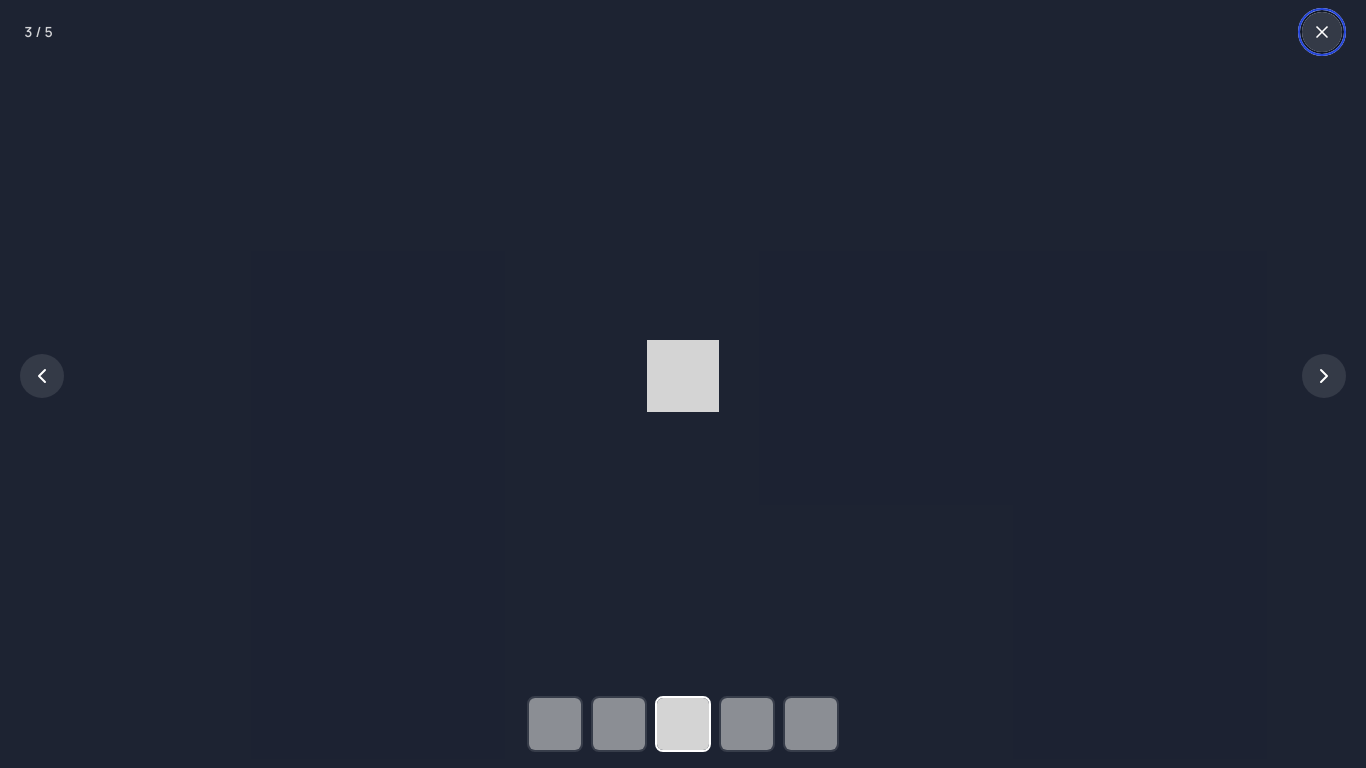
Test: Lightbox › opens at the requested photo, moves with the arrows and wraps at both ends
Expected: the text "3 / 5" is shown, x1=24 y1=22 x2=53 y2=42
Click the button named "Next photo". click: (1324, 376)
box: x1=1302 y1=354 x2=1346 y2=398
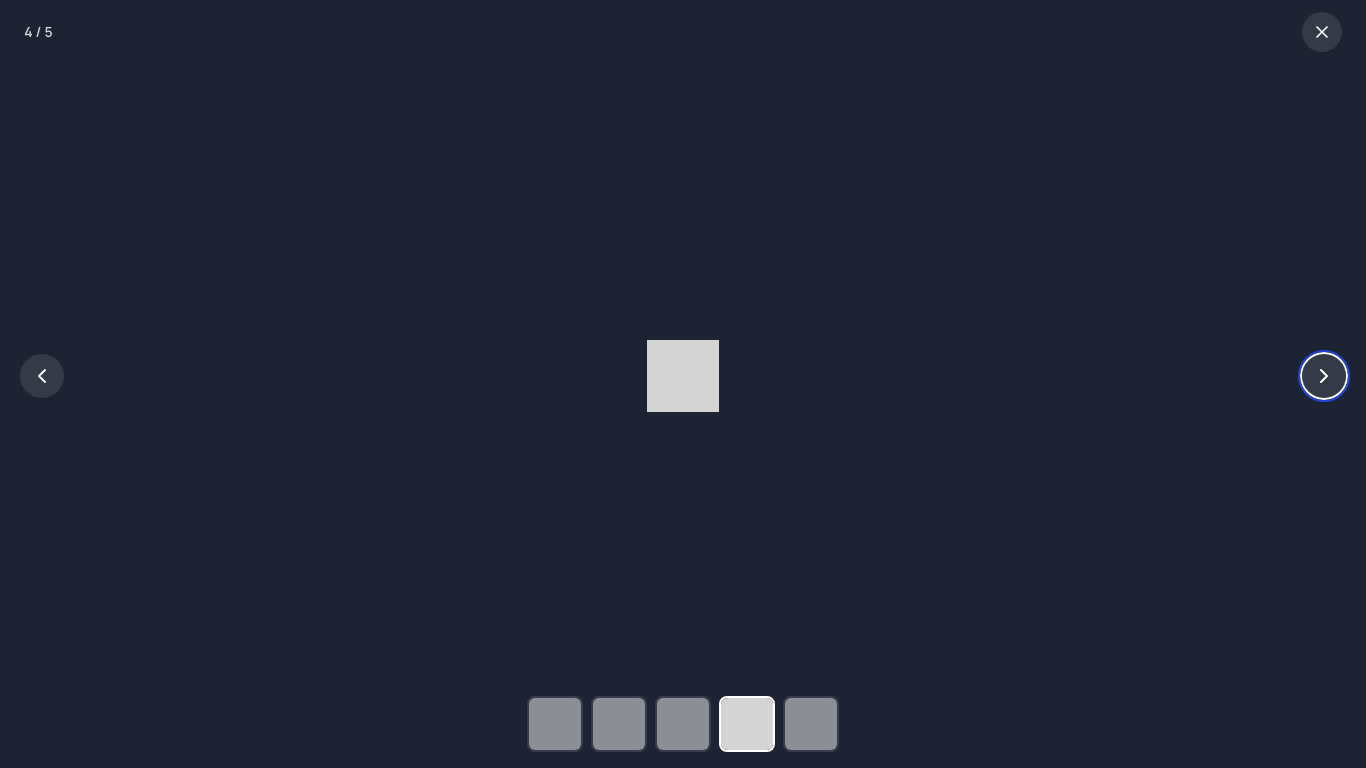
Now the text "4 / 5" is shown, box x1=24 y1=22 x2=53 y2=42
Click the button named "Next photo". click: (1324, 376)
box: x1=1302 y1=354 x2=1346 y2=398
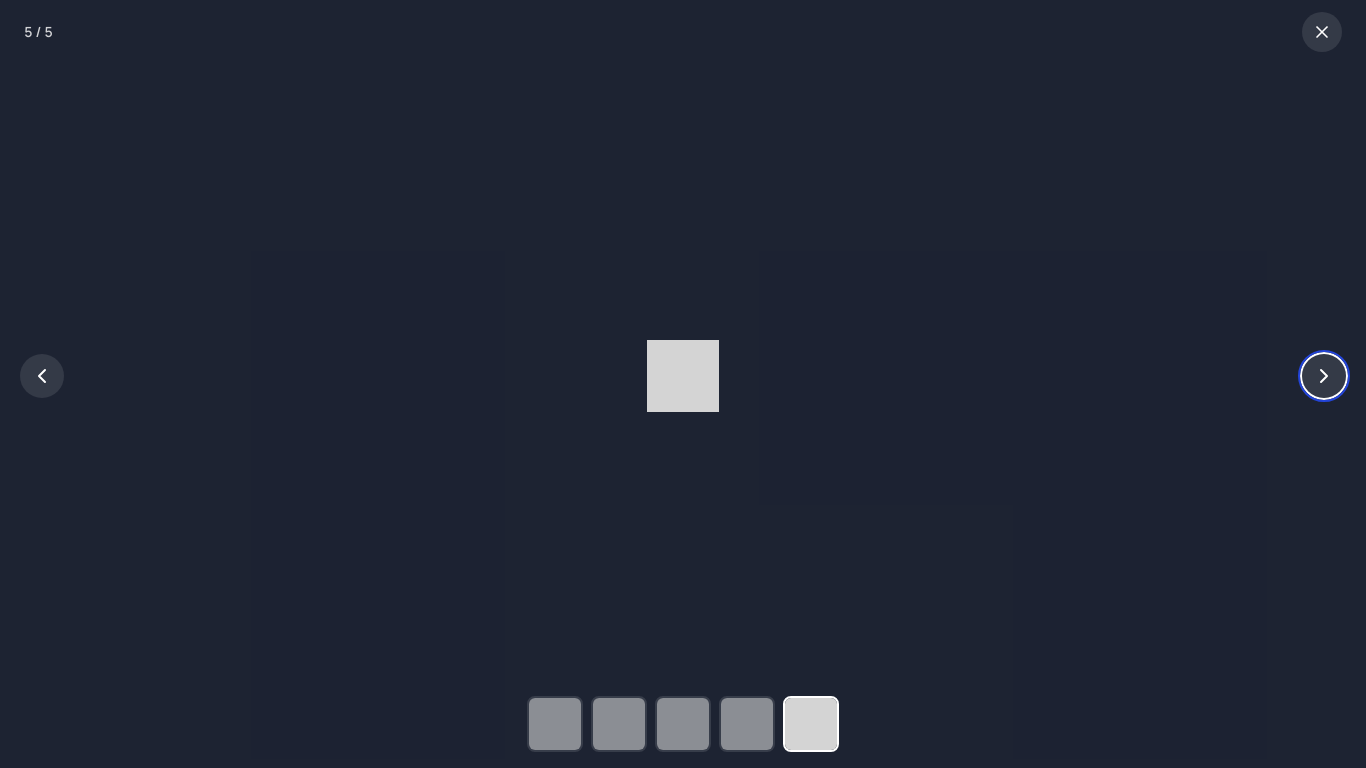
Now the text "5 / 5" is shown, box x1=24 y1=22 x2=53 y2=42
Click the button named "Next photo". click: (1324, 376)
box: x1=1302 y1=354 x2=1346 y2=398
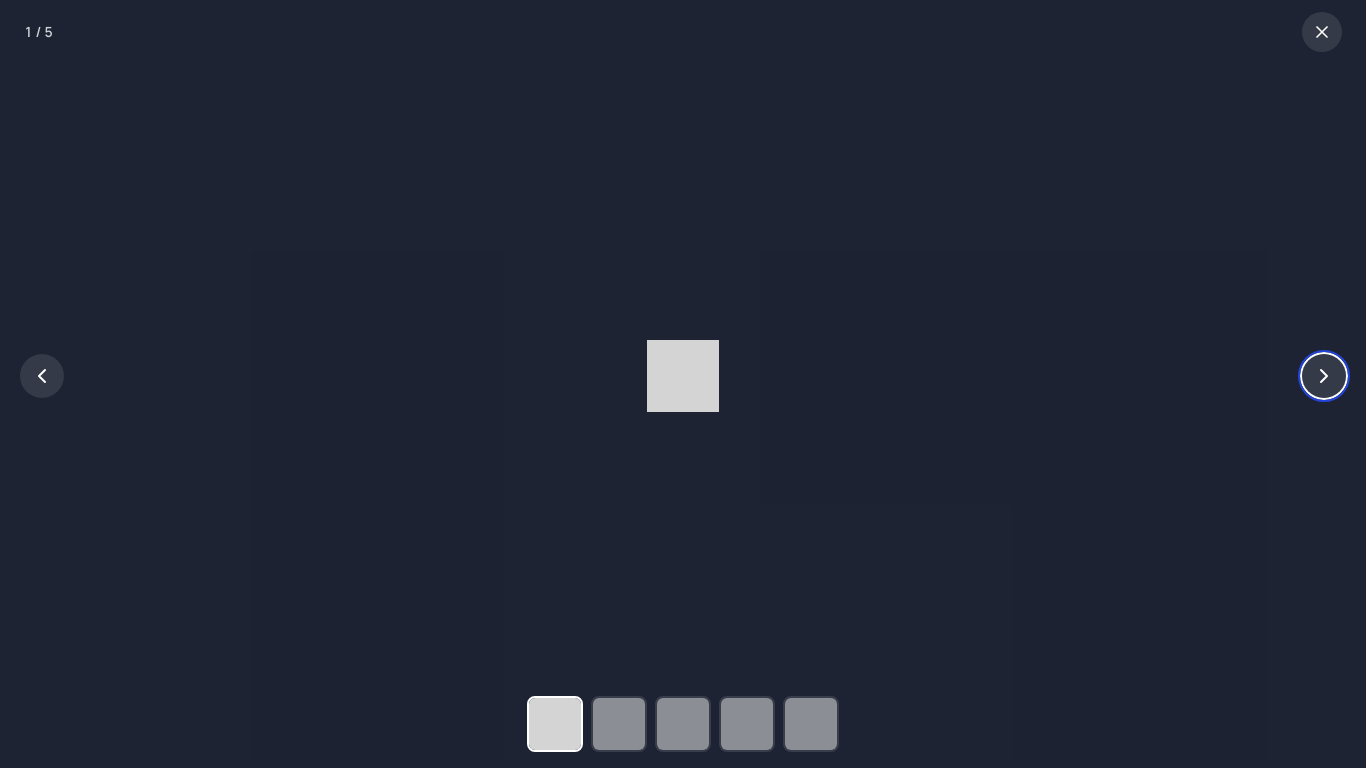
Now the text "1 / 5" is shown, box x1=24 y1=22 x2=53 y2=42
Click the button named "Previous photo". click: (42, 376)
box: x1=20 y1=354 x2=64 y2=398
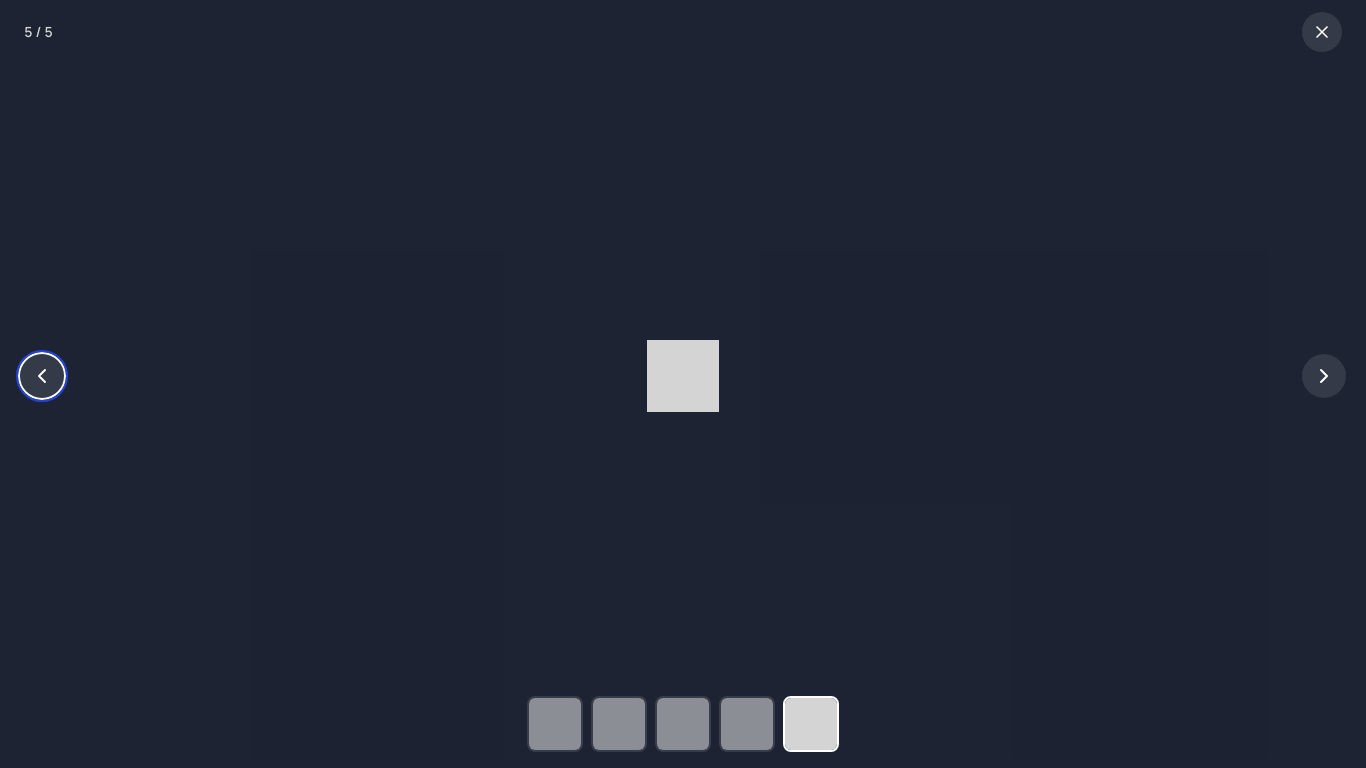
Now the text "5 / 5" is shown, box x1=24 y1=22 x2=53 y2=42
